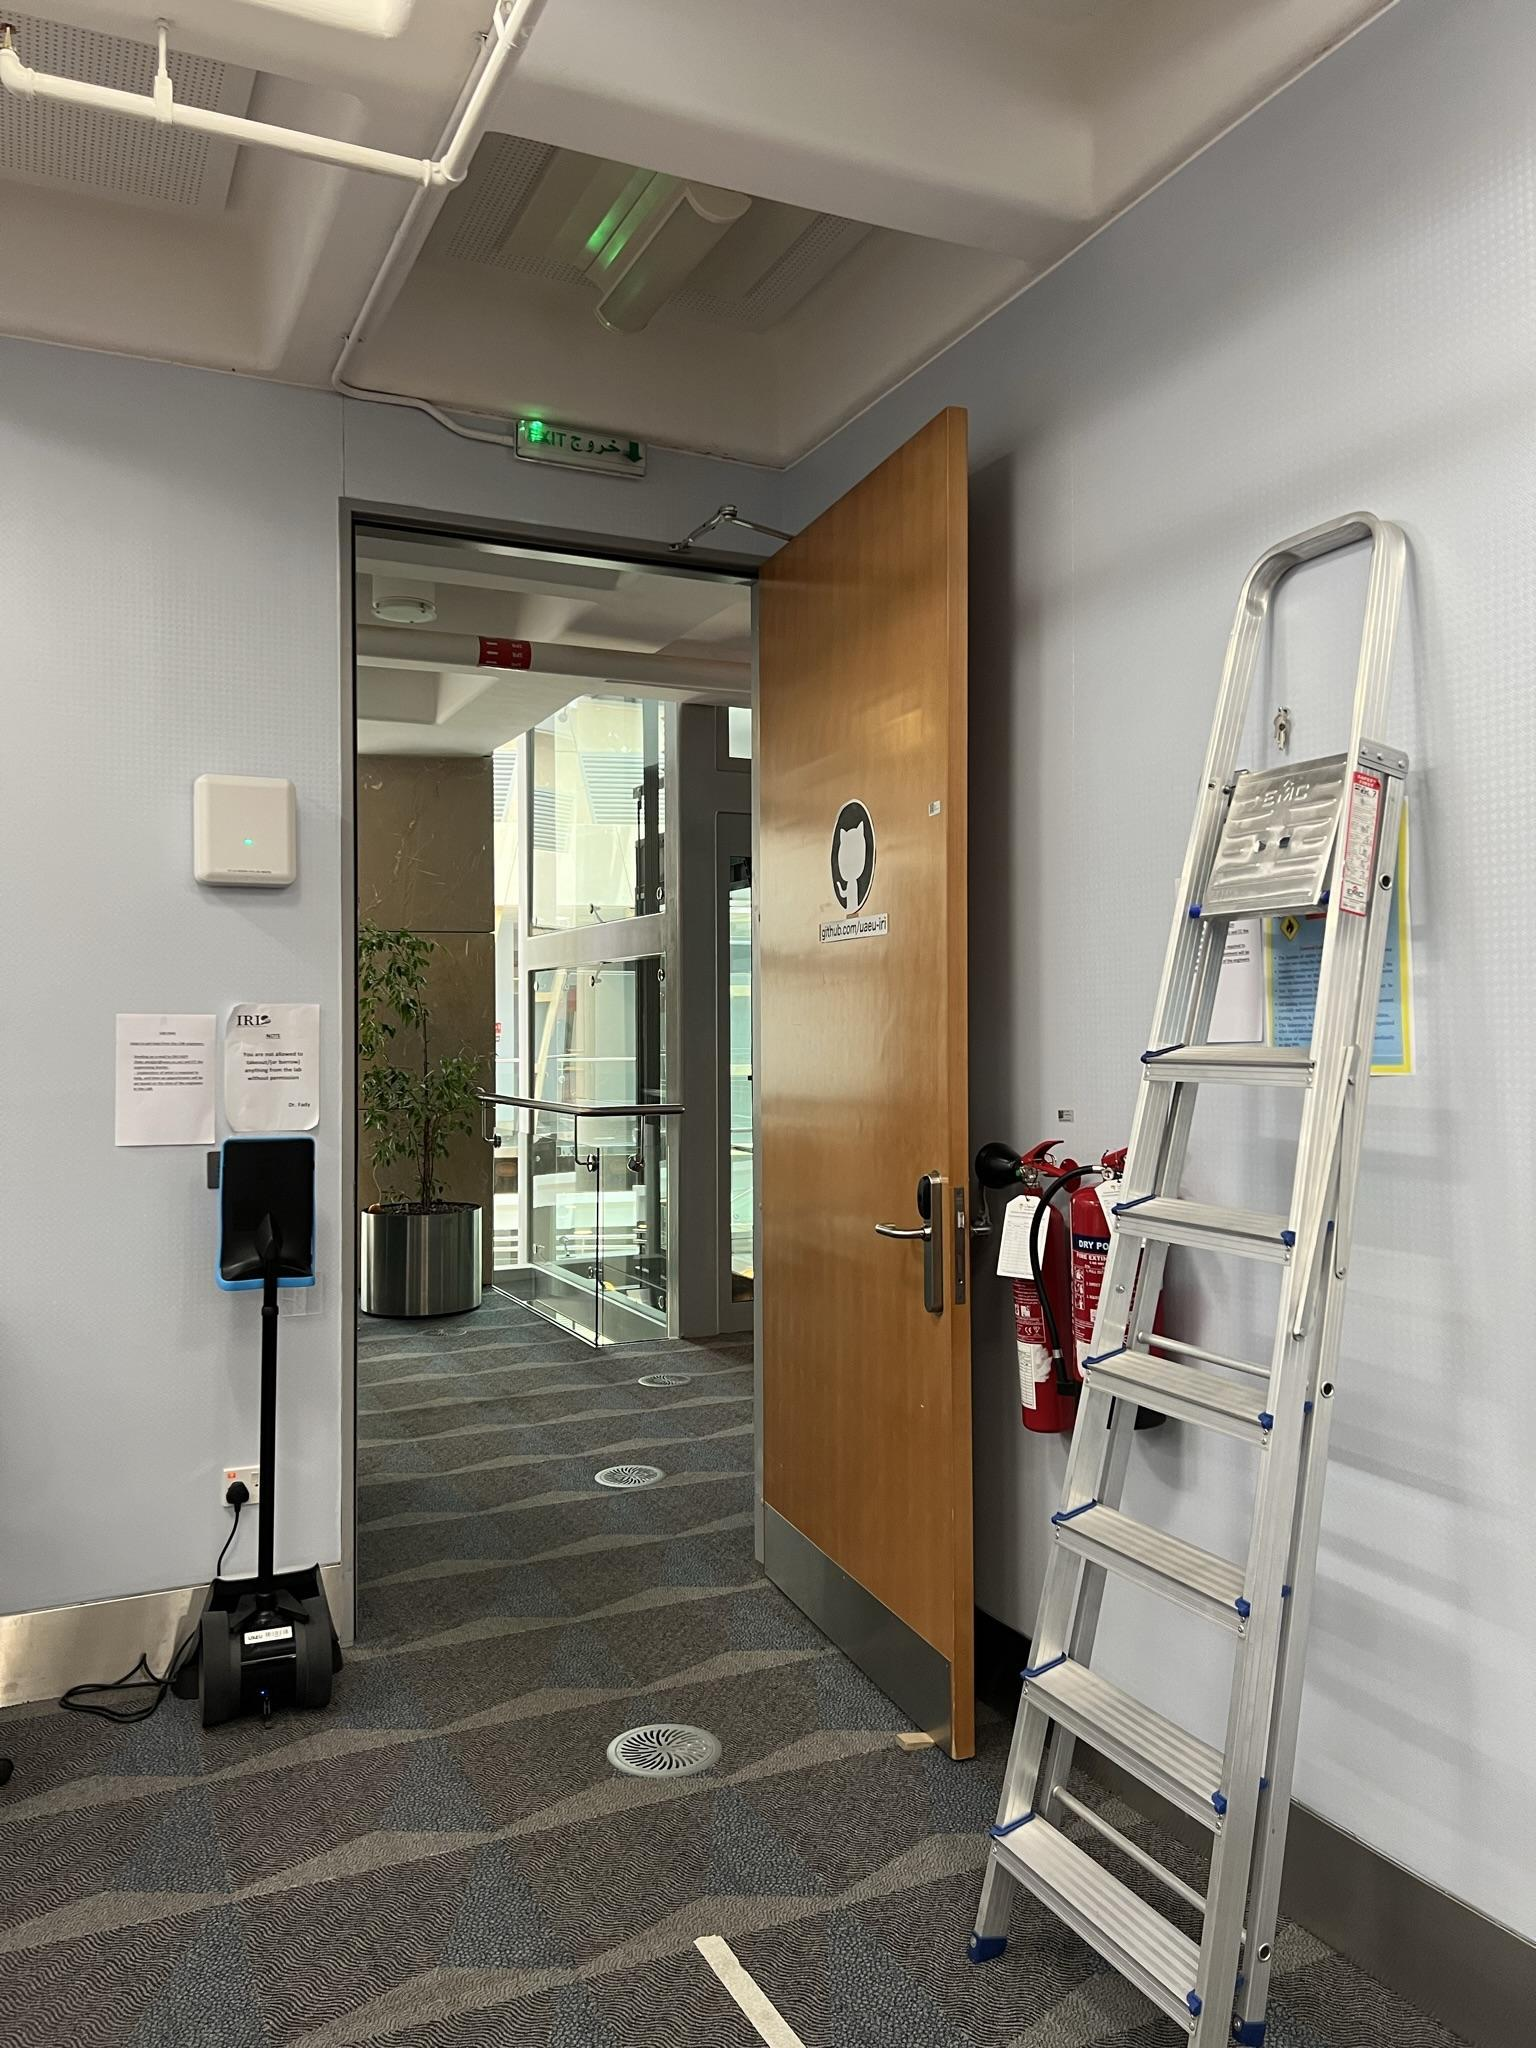door: (762, 502, 978, 1725)
handle: (878, 1151, 957, 1347)
